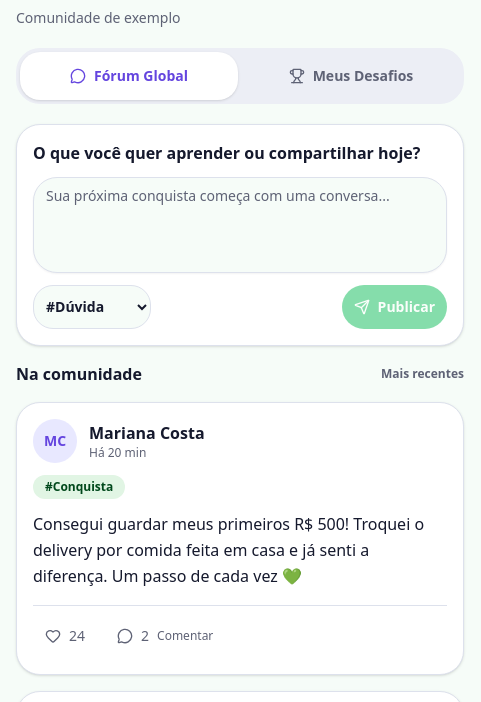
Community and challenges › adds a comment and preserves posts across tabs
Click the button with aria-label "Comentar publicação de Mariana Costa": coordinates (165, 636) x1=105 y1=614 x2=225 y2=658
(page scrolled)
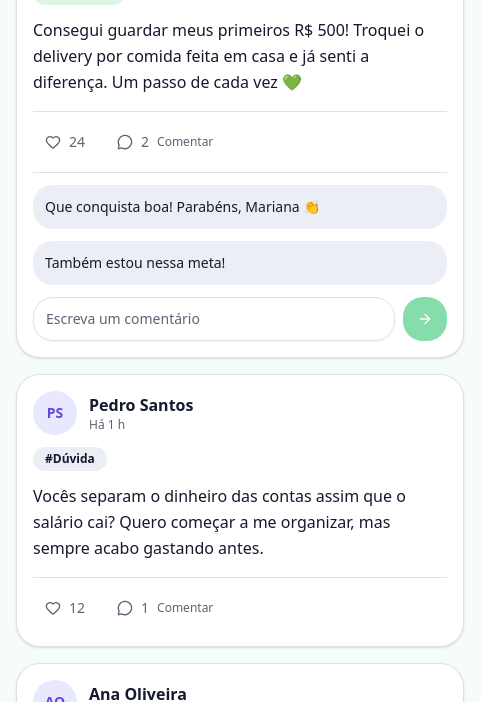
In the field named "Seu comentário": coordinates (214, 318) x1=33 y1=296 x2=395 y2=340, type "Parabéns pela economia!"
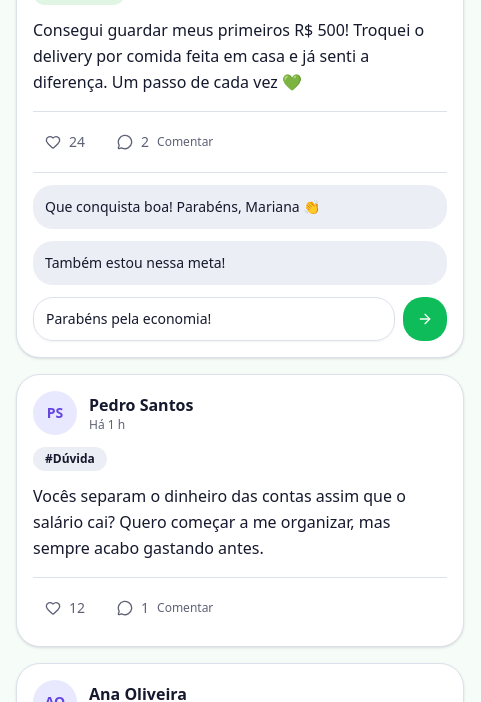
Click the button named "Enviar comentário": coordinates (425, 318) x1=403 y1=296 x2=447 y2=340
(page scrolled)
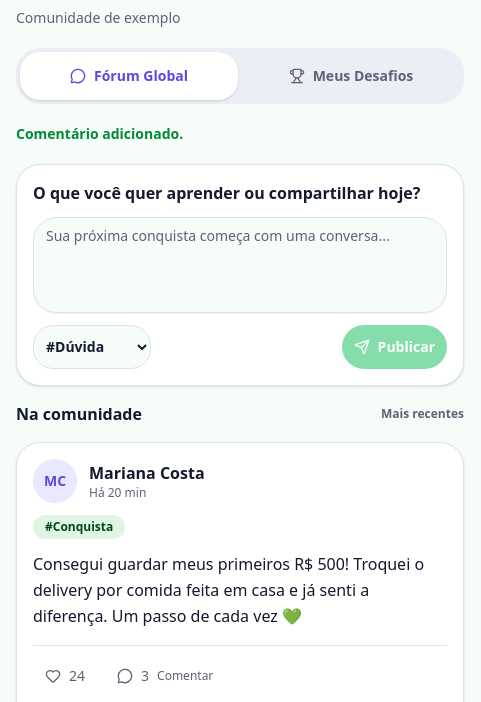
Click the tab "Meus Desafios": coordinates (351, 76) x1=242 y1=52 x2=460 y2=100
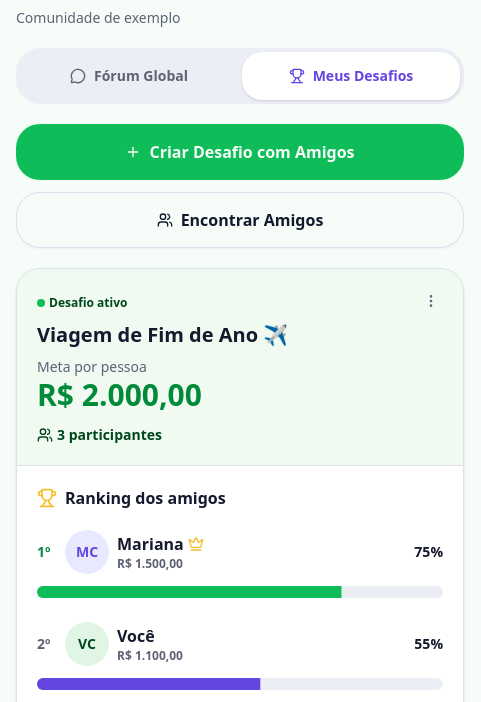
Expected: the text "Mariana" is shown, x1=117 y1=532 x2=184 y2=556
Now the list item "1º MC Mariana R$ 1.500,00 75%" is shown, box x1=37 y1=530 x2=443 y2=598
Click the tab "Fórum Global": coordinates (129, 76) x1=20 y1=52 x2=238 y2=100
(page scrolled)
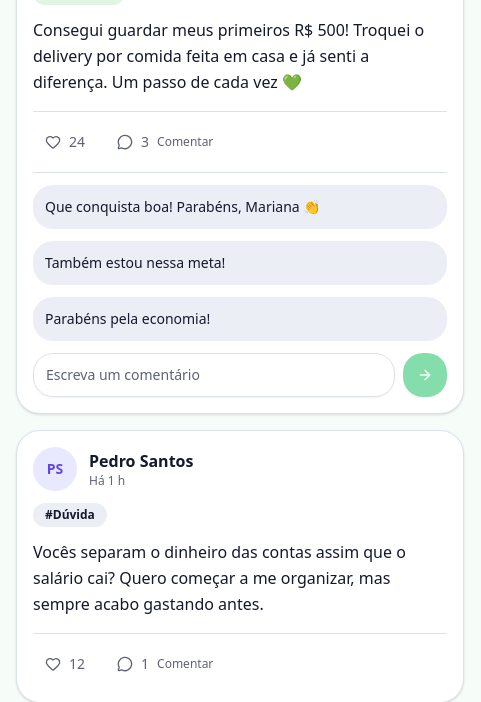
Now the text "Parabéns pela economia!" is shown, box x1=33 y1=296 x2=447 y2=340
